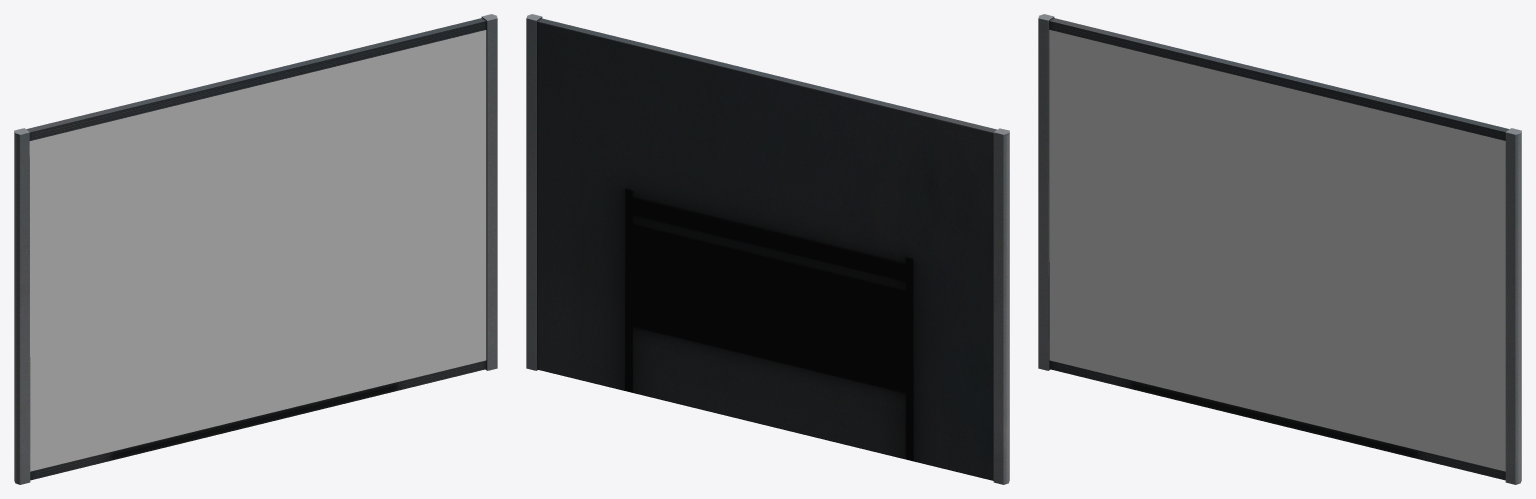
The model's file is Sun_na_Map_Frame.fbx.
The picture shows the model from 3 angles, left to right: view 1: azimuth 30°, elevation 25°; view 2: azimuth 150°, elevation 25°; view 3: azimuth 330°, elevation 25°; orthographic projection.
Visible parts, largest first — view 1: Sun_na_Map_Frame; view 2: Sun_na_Map_Frame; view 3: Sun_na_Map_Frame.
Part boxes in pixels (<box>): Sun_na_Map_Frame: <box>14,14,497,484</box>; Sun_na_Map_Frame: <box>526,14,1009,484</box>; Sun_na_Map_Frame: <box>1038,14,1521,484</box>.
Size of the model in its own units: 149 by 103 by 3.13.
